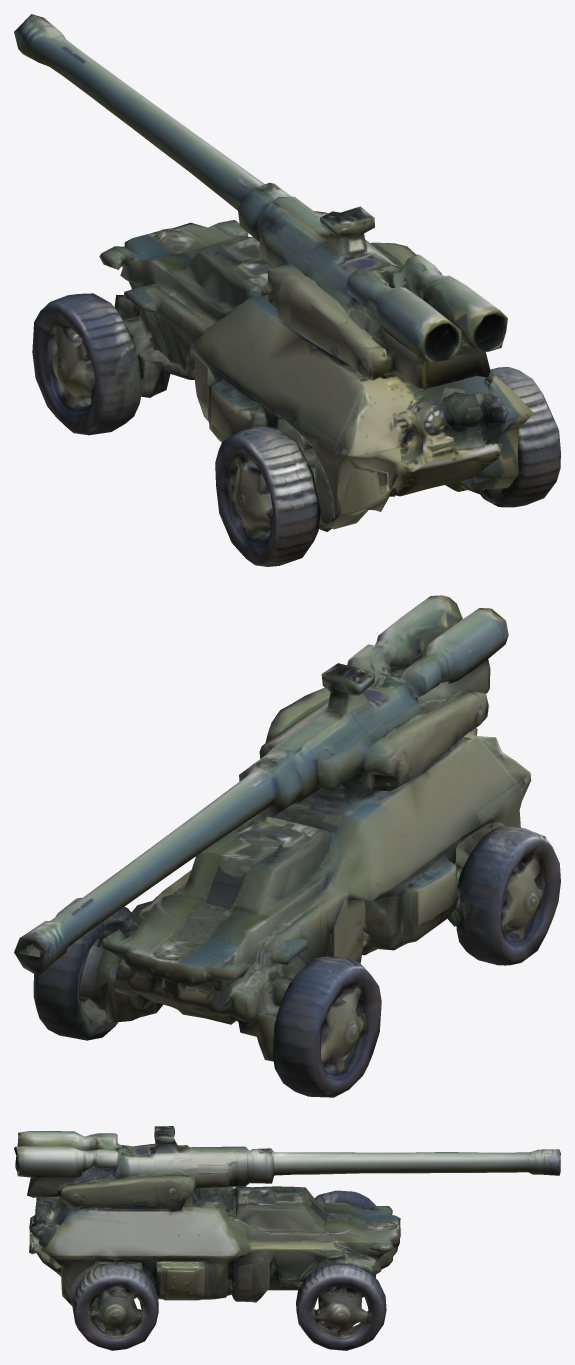
File: Meshy_Tank.glb
3 renders of one model, top to bottom at view 1: azimuth 30°, elevation 25°; view 2: azimuth 150°, elevation 25°; view 3: azimuth 270°, elevation 25°, orthographic. The views are drawn at different scales.
Size of the model in its own units: 0.7912 by 0.7299 by 2.02.
Materials: 1 (1 with a texture image).
